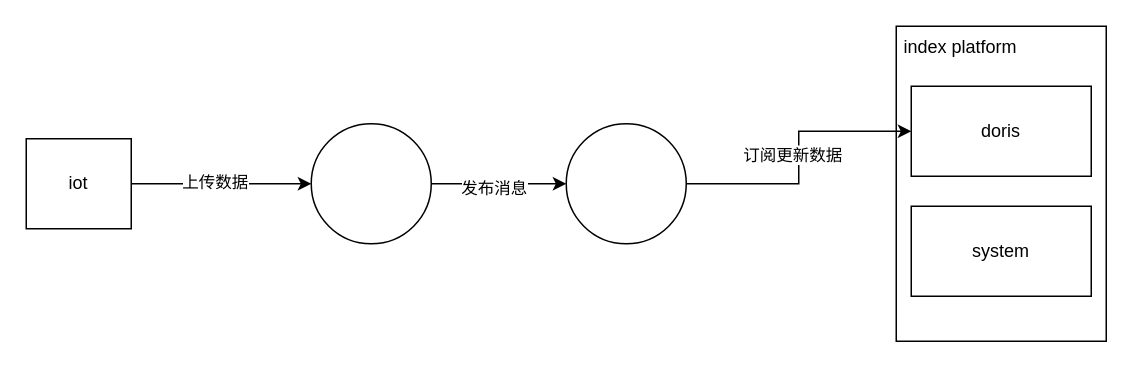
This 1133x368 diagram has some shape labels left out. The shapes that lost their labels are listed below. From the top down, each one's centre as x and y in pixels, then its label:
At point (370, 183): "数据中台".
At point (625, 183): "kafka".
